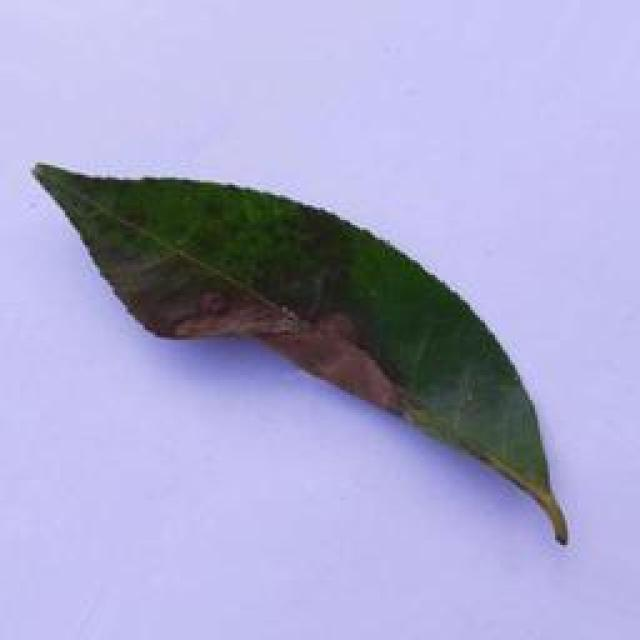Brown Blight: (33, 151, 565, 541)
